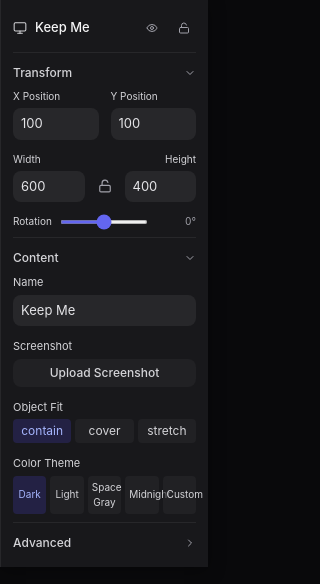
it: single selection — header & rename › Escape cancels the rename without committing
Double-click the text "Keep Me": (62, 27) [35,19,90,35]
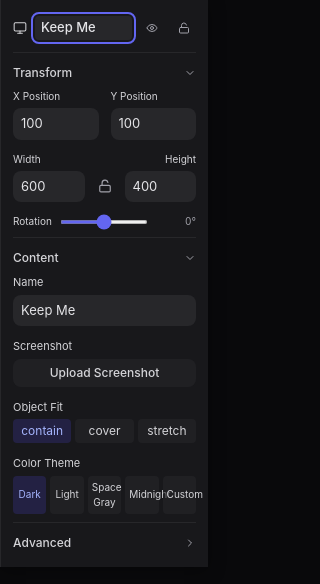
Replace the text in the field named "Element name" with "Changed": (84, 28) [35,16,132,40]
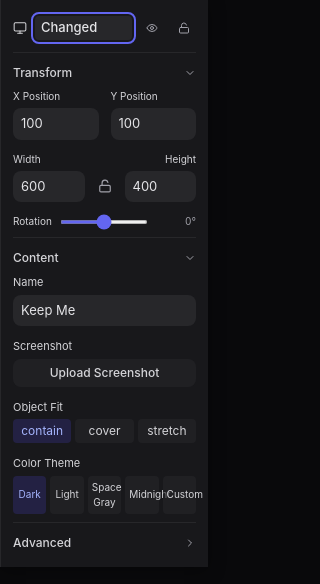
Press Escape in the field named "Element name", box [35,16,132,40]
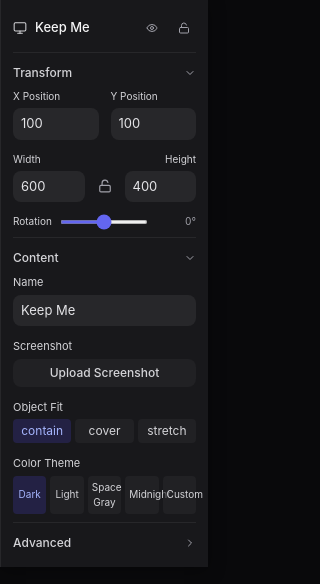
Check: the text "Keep Me" is shown, box [35,19,90,35]
